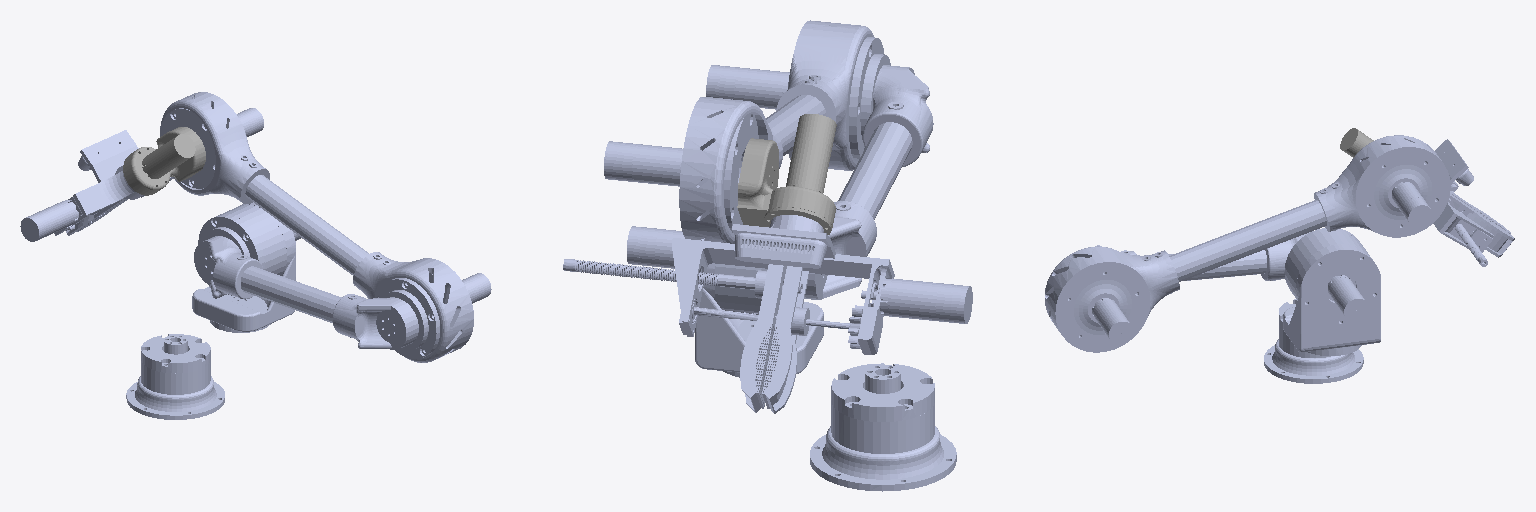
robot.urdf — urdf_humble_test:
<?xml version="1.0"?>
<!-- This URDF was automatically created by SolidWorks to URDF Exporter! Originally created by Stephen Brawner (brawner@gmail.com) 
     Commit Version 1.6.0-4-g7f85cfe  Build Version 1.6.7995.38578
     For more information, please see http//wiki.ros.org/sw_urdf_exporter -->
<robot
  name="urdf_humble_test">
  <link name="world"/>
    <joint name="base_joint" type="fixed">
       <parent link="world"/>
       <child link="base_link"/>
       <origin rpy="0 0 0" xyz="0.0 0.0 -0.17"/>
    </joint>
  <link
    name="base_link">
    <inertial>
      <origin
        xyz="-4.743837915544E-07 2.08978815363636E-07 0.0398691291100305"
        rpy="0 0 0" />
      <mass
        value="1.26158792714375" />
      <inertia
        ixx="0.00175614754470773"
        ixy="5.03614641481078E-10"
        ixz="-5.92029157039739E-09"
        iyy="0.00175614401963759"
        iyz="4.98996166764941E-09"
        izz="0.00323785623040002" />
    </inertial>
    <visual>
      <origin
        xyz="0 0 0"
        rpy="0 0 0" />
      <geometry>
        <mesh
          filename="package://urdf_humble_test/meshes/base_link.STL" />
      </geometry>
      <material
        name="">
        <color
          rgba="0.792156862745098 0.819607843137255 0.933333333333333 1" />
      </material>
    </visual>
    <collision>
      <origin
        xyz="0 0 0"
        rpy="0 0 0" />
      <geometry>
        <mesh
          filename="package://urdf_humble_test/meshes/base_link.STL" />
      </geometry>
    </collision>
  </link>
  <link
    name="link_1">
    <inertial>
      <origin
        xyz="0.0149258535370633 0.00446067865895465 0.168244863347586"
        rpy="0 0 0" />
      <mass
        value="1.58252995063954" />
      <inertia
        ixx="0.00367812068420756"
        ixy="0.000197509197407523"
        ixz="-0.000570515284281302"
        iyy="0.00307651113357738"
        iyz="-0.000170548507997464"
        izz="0.00243728557277392" />
    </inertial>
    <visual>
      <origin
        xyz="0 0 0"
        rpy="0 0 0" />
      <geometry>
        <mesh
          filename="package://urdf_humble_test/meshes/link_1.STL" />
      </geometry>
      <material
        name="">
        <color
          rgba="0.792156862745098 0.819607843137255 0.933333333333333 1" />
      </material>
    </visual>
    <collision>
      <origin
        xyz="0 0 0"
        rpy="0 0 0" />
      <geometry>
        <mesh
          filename="package://urdf_humble_test/meshes/link_1.STL" />
      </geometry>
    </collision>
  </link>
  <joint
    name="joint_1"
    type="revolute">
    <origin
      xyz="0 0 0"
      rpy="0 0 0" />
    <parent
      link="base_link" />
    <child
      link="link_1" />
    <axis
      xyz="0 0 1" />
    <limit
      lower="-3.14"
      upper="3.14"
      effort="0"
      velocity="0" />
  </joint>
  <link
    name="link_2">
    <inertial>
      <origin
        xyz="-0.174883405490475 0.0063906897068142 0.00767280405611698"
        rpy="0 0 0" />
      <mass
        value="0.563584848829252" />
      <inertia
        ixx="0.0003348452374415"
        ixy="1.8319476028181E-05"
        ixz="1.8068947894986E-11"
        iyy="0.000830253223733048"
        iyz="-1.23818201394263E-10"
        izz="0.000954579698356585" />
    </inertial>
    <visual>
      <origin
        xyz="0 0 0"
        rpy="0 0 0" />
      <geometry>
        <mesh
          filename="package://urdf_humble_test/meshes/link_2.STL" />
      </geometry>
      <material
        name="">
        <color
          rgba="0.792156862745098 0.819607843137255 0.933333333333333 1" />
      </material>
    </visual>
    <collision>
      <origin
        xyz="0 0 0"
        rpy="0 0 0" />
      <geometry>
        <mesh
          filename="package://urdf_humble_test/meshes/link_2.STL" />
      </geometry>
    </collision>
  </link>
  <joint
    name="joint_2"
    type="revolute">
    <origin
      xyz="-0.0589237850211093 -0.0176135617858798 0.196439999999998"
      rpy="1.5707963267949 0 1.86126299785025" />
    <parent
      link="link_1" />
    <child
      link="link_2" />
    <axis
      xyz="0 0 -1" />
    <limit
      lower="0"
      upper="3.14"
      effort="0"
      velocity="0" />
  </joint>
  <link
    name="link_3">
    <inertial>
      <origin
        xyz="-0.0839733696945522 0.0681689753013363 0.250999435788853"
        rpy="0 0 0" />
      <mass
        value="1.68158687764889" />
      <inertia
        ixx="0.00504091068027892"
        ixy="1.08101033069321E-05"
        ixz="4.35187158816721E-05"
        iyy="0.00353441502010039"
        iyz="-0.000395361521383045"
        izz="0.00218512259624916" />
    </inertial>
    <visual>
      <origin
        xyz="0 0 0"
        rpy="0 0 0" />
      <geometry>
        <mesh
          filename="package://urdf_humble_test/meshes/link_3.STL" />
      </geometry>
      <material
        name="">
        <color
          rgba="0.792156862745098 0.819607843137255 0.933333333333333 1" />
      </material>
    </visual>
    <collision>
      <origin
        xyz="0 0 0"
        rpy="0 0 0" />
      <geometry>
        <mesh
          filename="package://urdf_humble_test/meshes/link_3.STL" />
      </geometry>
    </collision>
  </link>
  <joint
    name="joint_3"
    type="revolute">
    <origin
      xyz="-0.349766547153894 0.0127813337346238 0"
      rpy="0 1.5707963267949 0" />
    <parent
      link="link_2" />
    <child
      link="link_3" />
    <axis
      xyz="1 0 0" />
    <limit
      lower="-6.28"
      upper="0"
      effort="0"
      velocity="0" />
  </joint>
  <link
    name="link_4">
    <inertial>
      <origin
        xyz="-0.00396437330824225 -0.00335656550649432 -0.0138879516826375"
        rpy="0 0 0" />
      <mass
        value="0.279984808714352" />
      <inertia
        ixx="0.000207044022235891"
        ixy="-8.08620638254851E-06"
        ixz="3.37117202629559E-05"
        iyy="0.000209746991677377"
        iyz="2.84970943544508E-05"
        izz="0.000171797316469416" />
    </inertial>
    <visual>
      <origin
        xyz="0 0 0"
        rpy="0 0 0" />
      <geometry>
        <mesh
          filename="package://urdf_humble_test/meshes/link_4.STL" />
      </geometry>
      <material
        name="">
        <color
          rgba="0.698039215686274 0.698039215686274 0.698039215686274 1" />
      </material>
    </visual>
    <collision>
      <origin
        xyz="0 0 0"
        rpy="0 0 0" />
      <geometry>
        <mesh
          filename="package://urdf_humble_test/meshes/link_4.STL" />
      </geometry>
    </collision>
  </link>
  <joint
    name="joint_4"
    type="revolute">
    <origin
      xyz="0 0.120795067593268 0.44489274173121"
      rpy="0 1.5707963267949 0" />
    <parent
      link="link_3" />
    <child
      link="link_4" />
    <axis
      xyz="0 0 1" />
    <limit
      lower="-3.14"
      upper="3.14"
      effort="0"
      velocity="0" />
  </joint>
  <link
    name="link_5">
    <inertial>
      <origin
        xyz="-0.0631049485055772 -0.0889500876207666 -0.117064136850921"
        rpy="0 0 0" />
      <mass
        value="0.445153140088307" />
      <inertia
        ixx="0.000274094446182845"
        ixy="-3.30773324406906E-05"
        ixz="0.000139501198705416"
        iyy="0.000858613379789018"
        iyz="-1.51340224951864E-05"
        izz="0.000835381695594303" />
    </inertial>
    <visual>
      <origin
        xyz="0 0 0"
        rpy="0 0 0" />
      <geometry>
        <mesh
          filename="package://urdf_humble_test/meshes/link_5.STL" />
      </geometry>
      <material
        name="">
        <color
          rgba="0.792156862745098 0.819607843137255 0.933333333333333 1" />
      </material>
    </visual>
    <collision>
      <origin
        xyz="0 0 0"
        rpy="0 0 0" />
      <geometry>
        <mesh
          filename="package://urdf_humble_test/meshes/link_5.STL" />
      </geometry>
    </collision>
  </link>
  <joint
    name="joint_5"
    type="revolute">
    <origin
      xyz="0.0475438829920029 0.0402600197471117 0.00549999999999323"
      rpy="0 1.28032965573954 0" />
    <parent
      link="link_4" />
    <child
      link="link_5" />
    <axis
      xyz="-0.218564021615717 -0.646228246342021 -0.731176327628897" />
    <limit
      lower="-3.14"
      upper="3.14"
      effort="0"
      velocity="0" />
  </joint>
  <link
    name="link_6">
    <inertial>
      <origin
        xyz="-1.53672751190825E-08 1.37734778027365E-08 -0.0458100316941801"
        rpy="0 0 0" />
      <mass
        value="0.0156031455954719" />
      <inertia
        ixx="1.35146476447596E-05"
        ixy="-2.96356967640183E-10"
        ixz="1.286858516959E-10"
        iyy="1.3514426991419E-05"
        iyz="-6.44123598726705E-11"
        izz="1.5061875624562E-06" />
    </inertial>
    <visual>
      <origin
        xyz="0 0 0"
        rpy="0 0 0" />
      <geometry>
        <mesh
          filename="package://urdf_humble_test/meshes/link_6.STL" />
      </geometry>
      <material
        name="">
        <color
          rgba="0.792156862745098 0.819607843137255 0.933333333333333 1" />
      </material>
    </visual>
    <collision>
      <origin
        xyz="0 0 0"
        rpy="0 0 0" />
      <geometry>
        <mesh
          filename="package://urdf_humble_test/meshes/link_6.STL" />
      </geometry>
    </collision>
  </link>
  <joint
    name="joint_6"
    type="revolute">
    <origin
      xyz="-0.0333725122311634 -0.114253153953276 -0.130847171307248"
      rpy="-3.14159265358979 1.28032965573961 3.14159265358979" />
    <parent
      link="link_5" />
    <child
      link="link_6" />
    <axis
      xyz="0 0 -1" />
    <limit
      lower="0"
      upper="10"
      effort="0"
      velocity="0" />
  </joint>
  <link
    name="link_7">
    <inertial>
      <origin
        xyz="7.65313491607467E-07 -3.74161015392893E-07 -0.0385405552273824"
        rpy="0 0 0" />
      <mass
        value="0.0157543709875629" />
      <inertia
        ixx="1.40004928900912E-05"
        ixy="-2.53486156184897E-10"
        ixz="-3.49587191185511E-10"
        iyy="1.40011200138394E-05"
        iyz="2.03591051059671E-10"
        izz="1.50794786871328E-06" />
    </inertial>
    <visual>
      <origin
        xyz="0 0 0"
        rpy="0 0 0" />
      <geometry>
        <mesh
          filename="package://urdf_humble_test/meshes/link_7.STL" />
      </geometry>
      <material
        name="">
        <color
          rgba="0.792156862745098 0.819607843137255 0.933333333333333 1" />
      </material>
    </visual>
    <collision>
      <origin
        xyz="0 0 0"
        rpy="0 0 0" />
      <geometry>
        <mesh
          filename="package://urdf_humble_test/meshes/link_7.STL" />
      </geometry>
    </collision>
  </link>
  <joint
    name="joint_7"
    type="revolute">
    <origin
      xyz="-0.0410222529877187 -0.136871142575247 -0.15643834277427"
      rpy="3.14159265358979 -1.28032965573961 0" />
    <parent
      link="link_5" />
    <child
      link="link_7" />
    <axis
      xyz="0 0 1" />
    <limit
      lower="-10"
      upper="0"
      effort="0"
      velocity="0" />
    <mimic
      joint="joint_6"
      multiplier="-1"
      offset="0" />
  </joint>
  <link
    name="link_8">
    <inertial>
      <origin
        xyz="0.0389414283701178 -0.0329757965501644 0.00477531130657782"
        rpy="0 0 0" />
      <mass
        value="0.0657970930356421" />
      <inertia
        ixx="4.25330956873951E-05"
        ixy="3.93690246189171E-05"
        ixz="-3.97125807063E-06"
        iyy="5.5687211021763E-05"
        iyz="3.36290131876431E-06"
        izz="9.53856903034168E-05" />
    </inertial>
    <visual>
      <origin
        xyz="0 0 0"
        rpy="0 0 0" />
      <geometry>
        <mesh
          filename="package://urdf_humble_test/meshes/link_8.STL" />
      </geometry>
      <material
        name="">
        <color
          rgba="0.792156862745098 0.819607843137255 0.933333333333333 1" />
      </material>
    </visual>
    <collision>
      <origin
        xyz="0 0 0"
        rpy="0 0 0" />
      <geometry>
        <mesh
          filename="package://urdf_humble_test/meshes/link_8.STL" />
      </geometry>
    </collision>
  </link>
  <joint
    name="joint_8"
    type="prismatic">
    <origin
      xyz="-0.0333725122311634 -0.114253153953276 -0.130847171307248"
      rpy="-3.14159265358979 1.28032965573961 3.14159265358979" />
    <parent
      link="link_5" />
    <child
      link="link_8" />
    <axis
      xyz="0 0 -1" />
    <limit
      lower="-0.042"
      upper="0"
      effort="0"
      velocity="0" />
    <mimic
      joint="joint_6"
      multiplier="-0.0042"
      offset="0" />
  </joint>
  <link
    name="link_9">
    <inertial>
      <origin
        xyz="-0.0128701655009559 0.0108981859411117 -0.0151891110782429"
        rpy="0 0 0" />
      <mass
        value="0.0599258931002066" />
      <inertia
        ixx="3.72880562711355E-05"
        ixy="3.42339778850729E-05"
        ixz="-2.90054522617449E-06"
        iyy="4.87264351315064E-05"
        iyz="2.45613272001958E-06"
        izz="8.37508902972254E-05" />
    </inertial>
    <visual>
      <origin
        xyz="0 0 0"
        rpy="0 0 0" />
      <geometry>
        <mesh
          filename="package://urdf_humble_test/meshes/link_9.STL" />
      </geometry>
      <material
        name="">
        <color
          rgba="0.792156862745098 0.819607843137255 0.933333333333333 1" />
      </material>
    </visual>
    <collision>
      <origin
        xyz="0 0 0"
        rpy="0 0 0" />
      <geometry>
        <mesh
          filename="package://urdf_humble_test/meshes/link_9.STL" />
      </geometry>
    </collision>
  </link>
  <joint
    name="joint_9"
    type="prismatic">
    <origin
      xyz="-0.0410222529877187 -0.136871142575247 -0.15643834277427"
      rpy="3.14159265358979 -1.28032965573961 0" />
    <parent
      link="link_5" />
    <child
      link="link_9" />
    <axis
      xyz="0 0 1" />
    <limit
      lower="-0.042"
      upper="0"
      effort="0"
      velocity="0" />
    <mimic
      joint="joint_6"
      multiplier="-0.0042"
      offset="0" />
  </joint>

  <!-- CAMERA OPTICAL FRAME ONLY (Camera is part of link_5 mesh) -->
  <link name="camera_link">
    <!-- Empty link for optical frame -->
  </link>
  <link name="camera_link_optical"></link>
  <joint name="camera_joint" type="fixed">
    <parent link="link_6"/> <!-- Camera is part of link_5 -->
    <child link="camera_link"/>
    <origin xyz="0.04 0.05 0.0" rpy="-1.57 0 -0.785"/> <!-- Position where camera is located in link_5 mesh -->
  </joint>
  <joint name="camera_optical_joint" type="fixed">
  <parent link="camera_link"/>
  <child link="camera_link_optical"/>
  <origin xyz="0 0 0" rpy="-1.5708 0 -1.5708"/>
</joint>
  
  <!-- ROS2 CONTROL CONFIGURATION -->
  <ros2_control name="GazeboSystem" type="system">
  <hardware>
    <plugin>gazebo_ros2_control/GazeboSystem</plugin>
  </hardware>
  <joint name="joint_1">
     <command_interface name="position"/>
     <state_interface name="position">
       <param name="initial_value">0.0</param>
      </state_interface>
      <state_interface name="velocity"/>
   </joint>
   
   <joint name="joint_2">
     <command_interface name="position"/>
     <state_interface name="position">
       <param name="initial_value">0.0</param>
      </state_interface>
      <state_interface name="velocity"/>
   </joint>
       
  <joint name="joint_3">
     <command_interface name="position"/>
     <state_interface name="position">
       <param name="initial_value">0.0</param>
      </state_interface>
      <state_interface name="velocity"/>
   </joint>
   
   <joint name="joint_4">
     <command_interface name="position"/>
     <state_interface name="position">
       <param name="initial_value">0.0</param>
      </state_interface>
      <state_interface name="velocity"/>
   </joint>
   
   <joint name="joint_5">
     <command_interface name="position"/>
     <state_interface name="position">
       <param name="initial_value">0.0</param>
      </state_interface>
      <state_interface name="velocity"/>
   </joint>
   
   <joint name="joint_6">
     <command_interface name="position"/>
     <state_interface name="position">
       <param name="initial_value">0.0</param>
      </state_interface>
      <state_interface name="velocity"/>
   </joint>
   
   <joint name="joint_7">
     <!-- Remove command interface for mimic joint -->
     <state_interface name="position">
       <param name="initial_value">0.0</param>
     </state_interface>
     <param name="mimic">joint_6</param>
     <param name="multiplier">-1</param>
     <state_interface name="velocity"/>
   </joint>
   
   <joint name="joint_8">
     <!-- Remove command interface for mimic joint -->
     <state_interface name="position">
       <param name="initial_value">0.0</param>
     </state_interface>
     <param name="mimic">joint_6</param>
     <param name="multiplier">-0.01</param>
     <state_interface name="velocity"/>
   </joint>
   
   <joint name="joint_9">
     <!-- Remove command interface for mimic joint -->
     <state_interface name="position">
       <param name="initial_value">0.0</param>
     </state_interface>
     <param name="mimic">joint_6</param>
     <param name="multiplier">-0.01</param>
     <state_interface name="velocity"/>
   </joint>
</ros2_control>

<!-- GAZEBO PLUGINS -->
<gazebo>
    <plugin filename="libgazebo_ros2_control.so" name="gazebo_ros2_control">
<parameters>/home/devika/robo_ws/src/urdf_humble_test/config/controller_manager.yaml</parameters>
<controller_manager_node_name>controller_manager</controller_manager_node_name>
    <ros>
      <namespace>/</namespace>
    </ros>
    </plugin>
</gazebo>

<gazebo>
  <plugin name="joint_state_publisher" filename="libgazebo_ros_joint_state_publisher.so">
    <ros>
      <namespace>/</namespace>
    </ros>
  </plugin>
</gazebo>

<gazebo>
  <plugin name="joint_trajectory_controller" filename="libgazebo_ros_joint_pose_trajectory.so">
    <ros>
      <namespace>/</namespace>
    </ros>
    <update_rate>100</update_rate>
    <joints>
      <joint>joint_1</joint>
      <joint>joint_2</joint>
      <joint>joint_3</joint>
      <joint>joint_4</joint>
      <joint>joint_5</joint>
      <joint>joint_6</joint>
      <!-- Do not include joint_7 here, it's a mimic joint -->
    </joints>
  </plugin>
</gazebo>

<!-- CAMERA GAZEBO CONFIGURATION -->
<gazebo reference="camera_link">
  <sensor name="camera" type="depth">
    <pose> 0 0 0 0 0 0 </pose> <!-- Camera position and orientation relative to link_5 -->
    <visualize>true</visualize>
    <update_rate>10</update_rate>
    <camera>
       <horizontal_fov>1.089</horizontal_fov>
       <image>
          <format>B8G8R8</format>
          <width>640</width>
          <height>480</height>
       </image>
       <clip>
          <near>0.05</near>
          <far>1</far>
       </clip>
     </camera>
    <plugin name="camera_controller" filename="libgazebo_ros_camera.so">
      <frame_name>camera_link_optical</frame_name>
      <min_depth>0.1</min_depth>
      <max_depth>10.0</max_depth>
    </plugin>
  </sensor>
</gazebo>

</robot>

--- Render facts (derived) ---
Views: 3 orthographic renders of the robot side by side, from view 1: azimuth 30°, elevation 25°; view 2: azimuth 150°, elevation 25°; view 3: azimuth 270°, elevation 25°.
Model urdf_humble_test with 13 links and 12 joints (7 revolute, 2 prismatic, 3 fixed), rooted at world, posed all joints at 0.
Links seen in each view (by area): view 1: link_3, link_2, base_link, link_1, link_5, link_4; view 2: link_3, base_link, link_5, link_2, link_4, link_1, link_9, link_8, link_6, link_7; view 3: link_3, link_1, base_link, link_5, link_2, link_8, link_4.
Link boxes in pixels (x1,y1,x2,y2): link_3: [160, 92, 491, 362]; link_2: [194, 227, 428, 350]; base_link: [126, 334, 224, 419]; link_1: [192, 202, 300, 332]; link_5: [20, 130, 173, 241]; link_4: [123, 127, 205, 195]; link_3: [604, 20, 884, 243]; base_link: [810, 363, 956, 491]; link_5: [672, 215, 972, 354]; link_2: [805, 54, 933, 299]; link_4: [737, 114, 836, 234]; link_1: [627, 226, 823, 377]; link_9: [762, 266, 809, 413]; link_8: [740, 264, 786, 412]; link_6: [563, 259, 755, 289]; link_7: [692, 302, 863, 348]; link_3: [1045, 135, 1450, 352]; link_1: [1283, 228, 1380, 355]; base_link: [1264, 299, 1363, 383]; link_5: [1433, 139, 1493, 252]; link_2: [1095, 232, 1309, 280]; link_8: [1448, 193, 1514, 257]; link_4: [1340, 128, 1373, 157].
Bounding box of the posed robot: 0.5291 × 0.6687 × 0.4005 m (x, y, z).
10 mesh visuals loaded from 10 distinct referenced files (10 binary STL).
